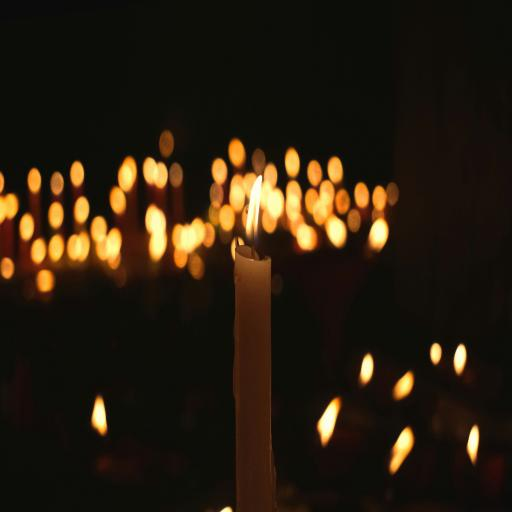candlelight: (233, 176, 277, 512)
